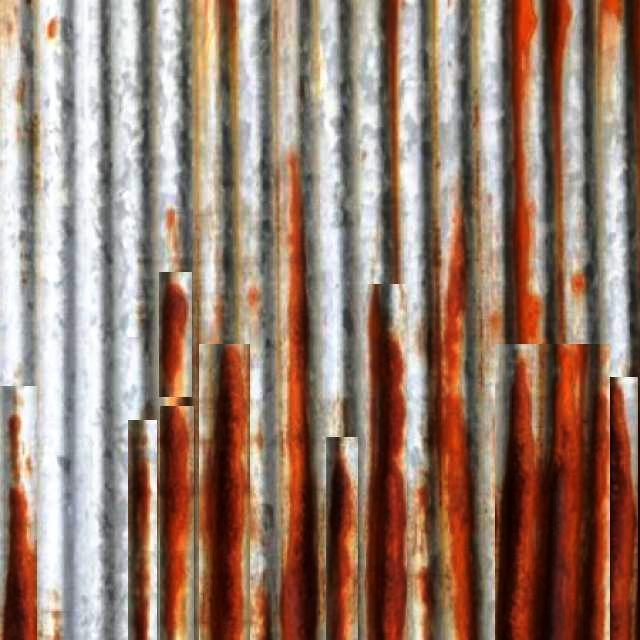Corrosion: (279, 151, 315, 640), (499, 345, 553, 640), (370, 284, 408, 640), (551, 345, 591, 640), (434, 357, 474, 640), (199, 346, 236, 640), (160, 407, 193, 640), (612, 378, 639, 640), (589, 346, 611, 640), (128, 421, 157, 640), (438, 221, 467, 404), (3, 488, 36, 640), (128, 431, 151, 640), (514, 170, 540, 344), (512, 0, 538, 146), (552, 0, 572, 168), (160, 283, 187, 397), (240, 346, 249, 450)
